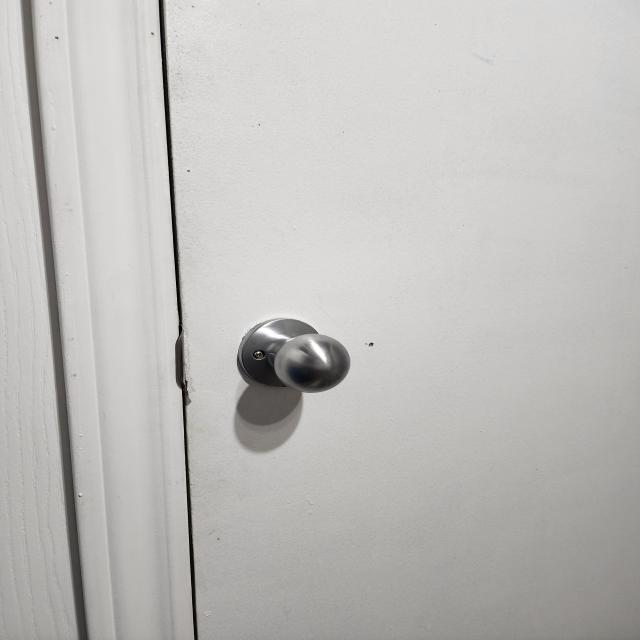door-knob: (236, 319, 352, 395)
